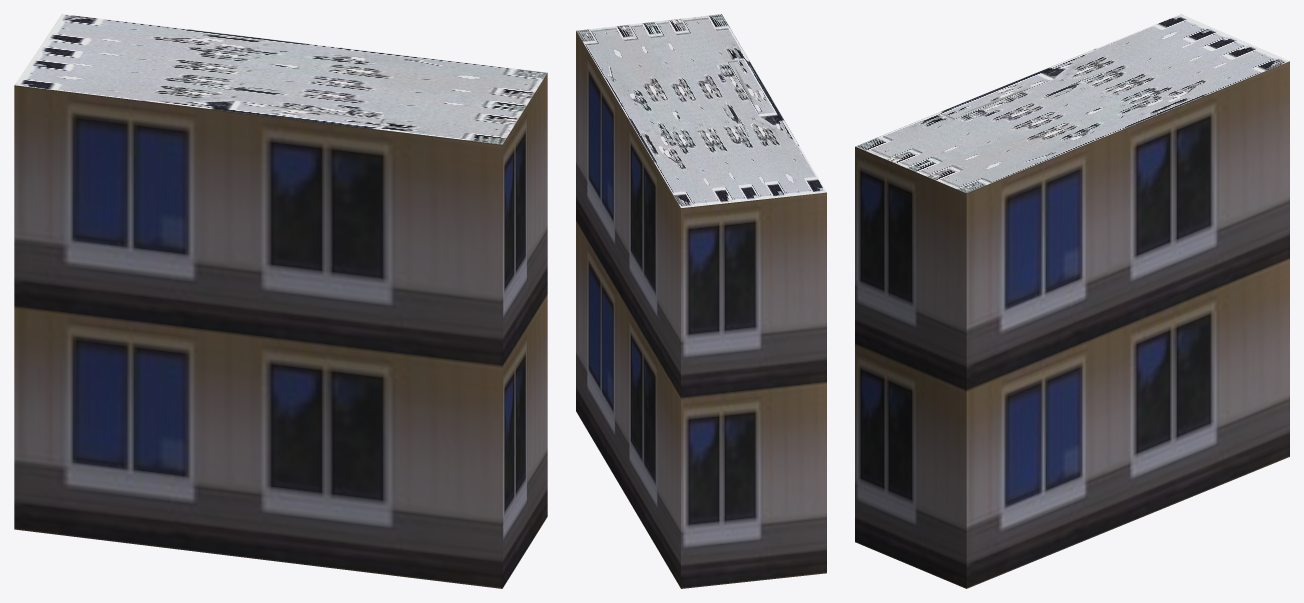
Rendered from ResTex__5280.fbx.
The picture shows the model from 3 angles, left to right: view 1: azimuth 30°, elevation 25°; view 2: azimuth 150°, elevation 25°; view 3: azimuth 270°, elevation 25°; orthographic projection. The views are drawn at different scales.
Parts seen in each view (by area): view 1: CityEngineMaterial_5_m, CityEngineMaterial_4_m; view 2: CityEngineMaterial_5_m, CityEngineMaterial_4_m; view 3: CityEngineMaterial_5_m, CityEngineMaterial_4_m.
Boxes of the visible parts, x1,y1,x2,y2 form: CityEngineMaterial_5_m: (14, 73, 547, 588); CityEngineMaterial_4_m: (15, 14, 546, 144); CityEngineMaterial_5_m: (576, 31, 826, 588); CityEngineMaterial_4_m: (576, 14, 826, 207); CityEngineMaterial_5_m: (855, 61, 1289, 588); CityEngineMaterial_4_m: (855, 14, 1289, 193).
Bounding box in the file's own units: 5.83 × 6 × 5.98.
2 materials, 2 textured.
